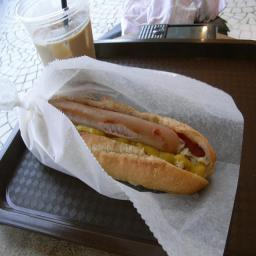hotdog: (42, 86, 228, 196)
